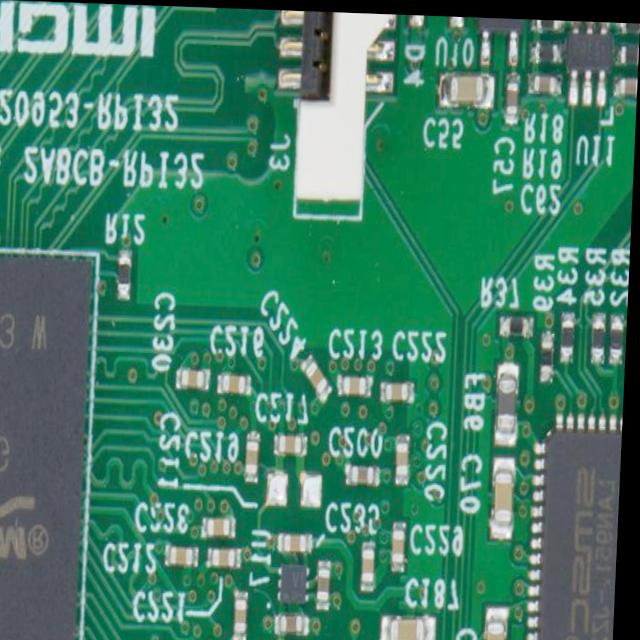IC: (542, 426, 626, 640), (560, 16, 615, 106), (475, 14, 522, 65), (284, 562, 312, 604)
capacitor: (0, 252, 99, 640), (492, 453, 520, 536), (438, 68, 497, 105), (302, 345, 336, 403), (384, 611, 443, 640), (246, 432, 267, 486), (489, 602, 514, 640), (204, 513, 242, 538), (348, 460, 386, 485), (339, 373, 378, 396), (283, 528, 318, 553), (179, 366, 214, 391), (237, 588, 253, 640), (505, 70, 521, 122), (397, 518, 412, 571), (282, 429, 316, 452), (170, 544, 203, 567), (400, 429, 414, 483), (219, 372, 255, 393), (384, 377, 417, 399), (531, 68, 561, 91), (213, 546, 245, 567), (617, 72, 638, 94)
diode: (403, 12, 465, 29)
ferrite bead: (496, 358, 523, 444)
pads: (268, 468, 327, 508)
resistor: (118, 247, 136, 303), (500, 311, 537, 337), (560, 313, 579, 360), (591, 309, 608, 359), (543, 332, 558, 381), (613, 310, 627, 357), (529, 40, 563, 59), (618, 39, 639, 61), (534, 16, 564, 28), (617, 18, 640, 31)
unknown: (319, 559, 337, 608), (364, 540, 380, 591), (280, 609, 314, 632)
